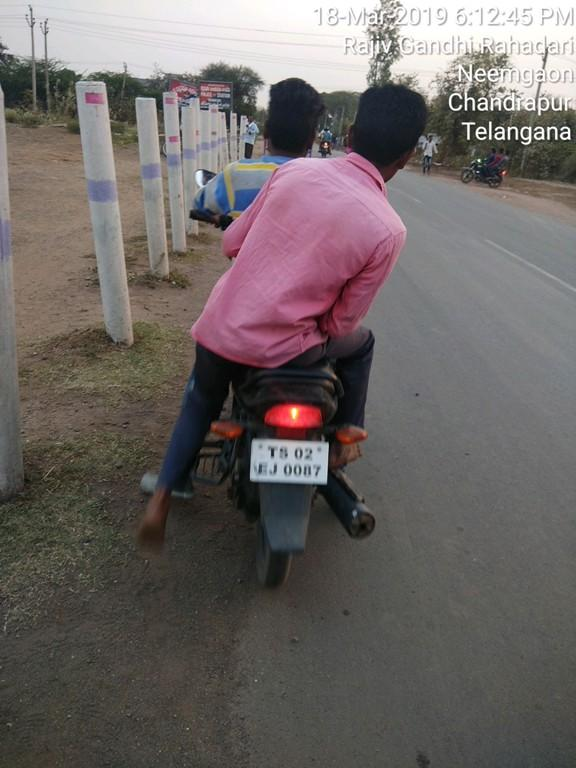plate: (244, 431, 341, 493)
